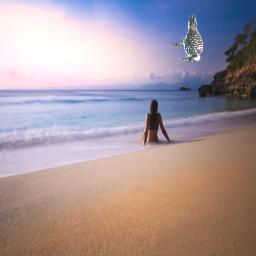Woodpecker: (170, 14, 205, 61)
